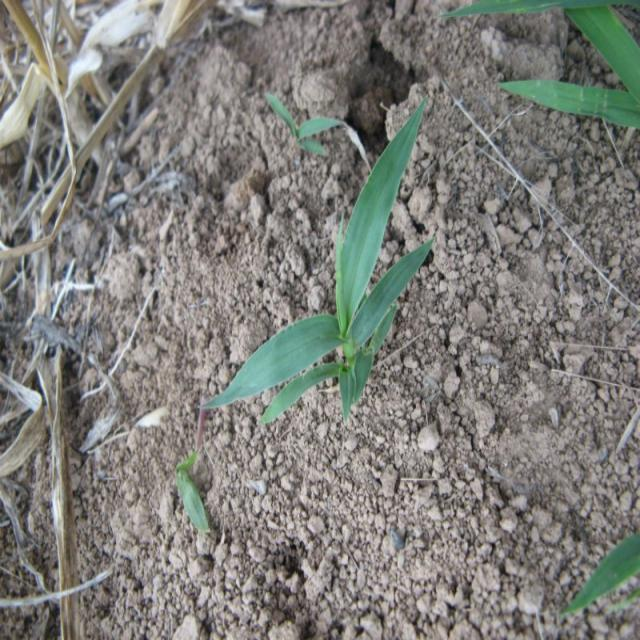bg: (206, 100, 439, 422)
